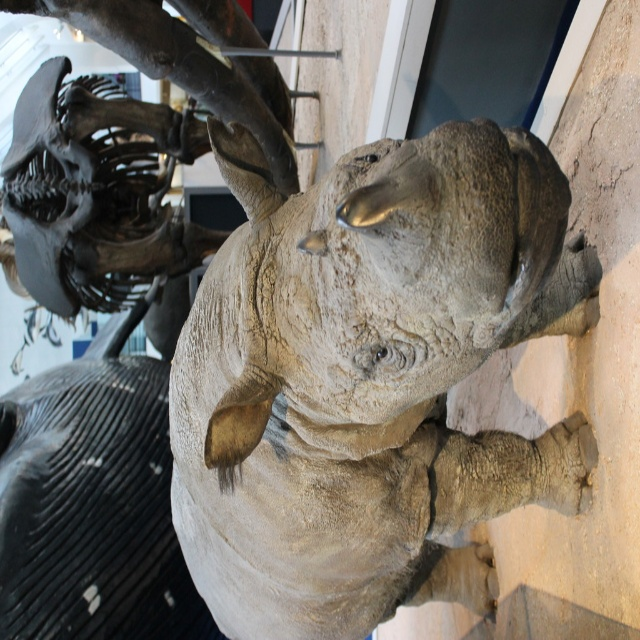Rhinoceros: (166, 117, 606, 639)
